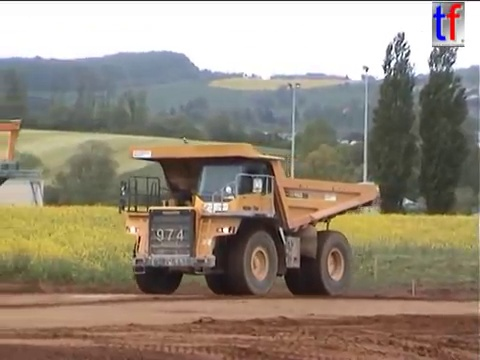excavator: (1, 114, 24, 181)
truck: (116, 135, 383, 298)
